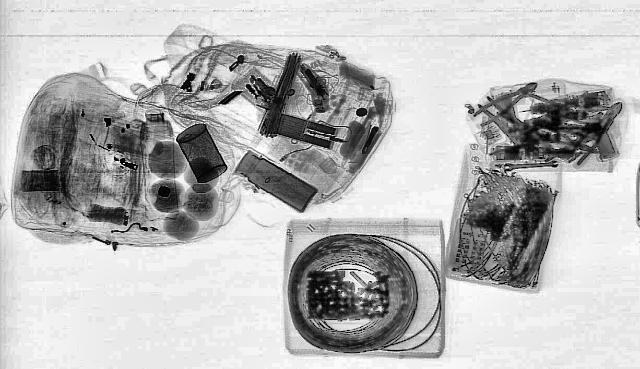Pliers: (554, 100, 632, 166), (464, 79, 546, 125)
Wrench: (500, 159, 560, 171)
